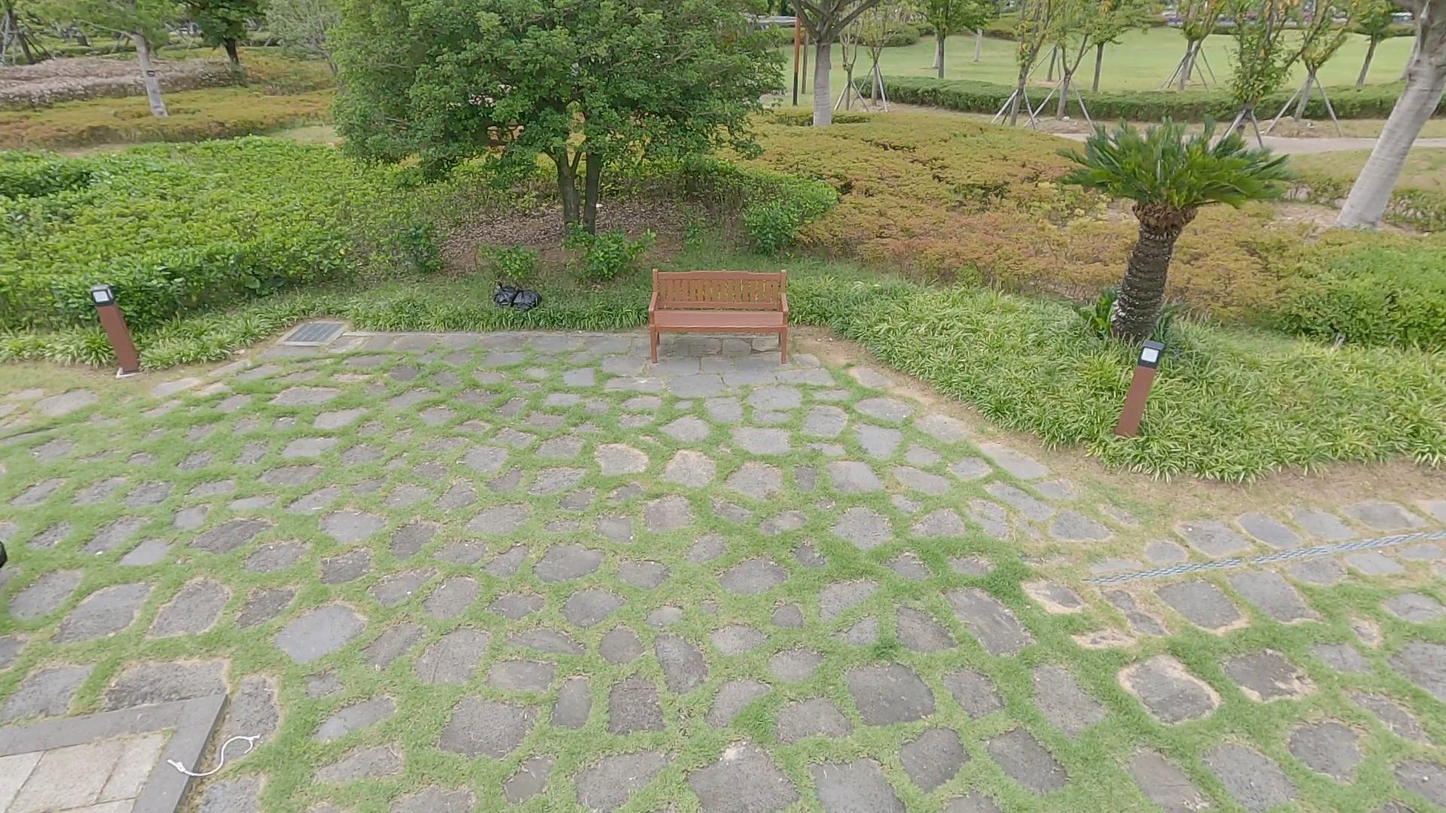trash: (508, 280, 543, 314), (493, 281, 515, 305)
